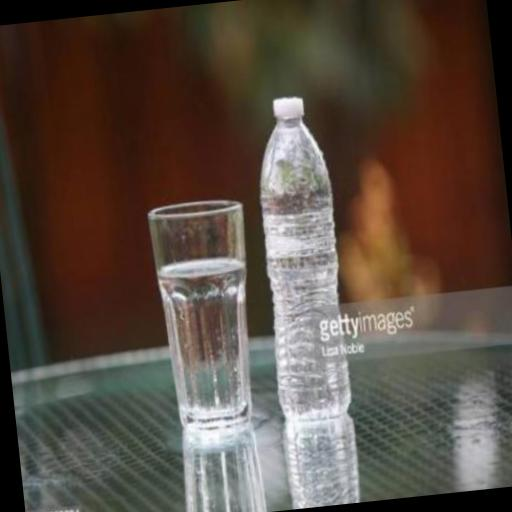Coca: (242, 86, 359, 432)
